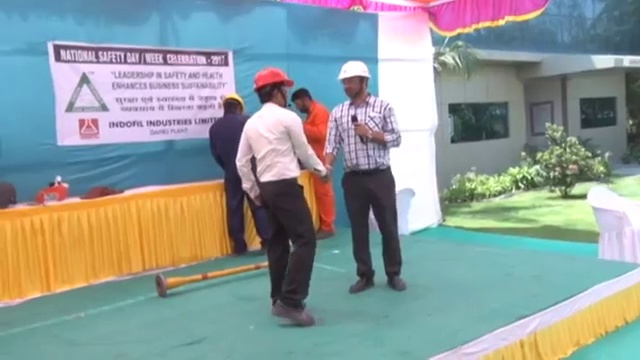helmet: (252, 65, 296, 91), (336, 59, 373, 81), (221, 91, 245, 112)
helmet_off: (292, 85, 316, 115)
helmet_on: (251, 64, 297, 113), (336, 57, 374, 105), (219, 88, 247, 120)
person: (234, 65, 326, 327), (324, 59, 410, 295), (209, 88, 267, 253), (292, 84, 338, 240)
